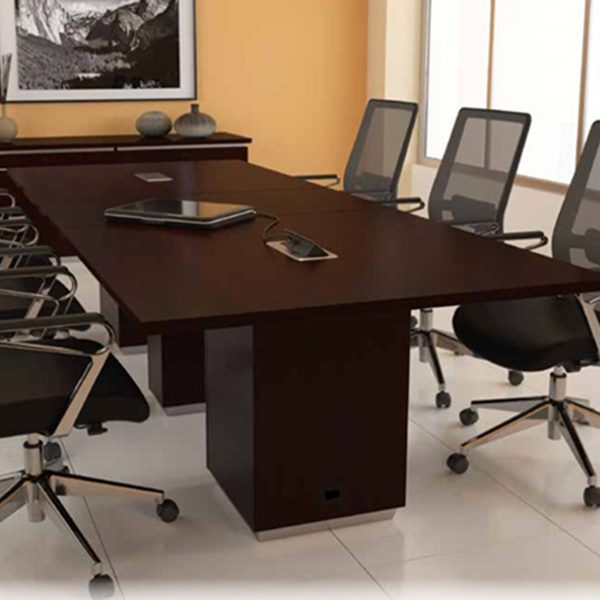conference_table: (8, 159, 600, 535)
